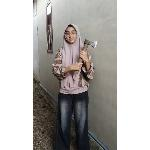Kapak: (74, 38, 100, 74)
